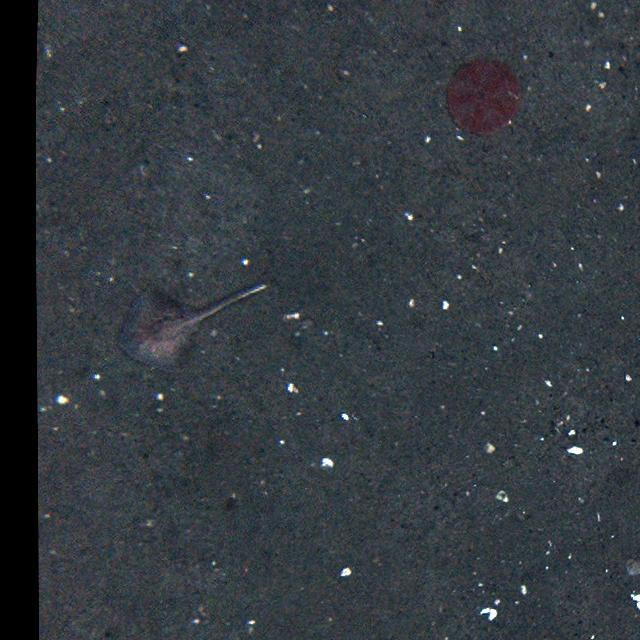skate: (113, 276, 271, 376)
